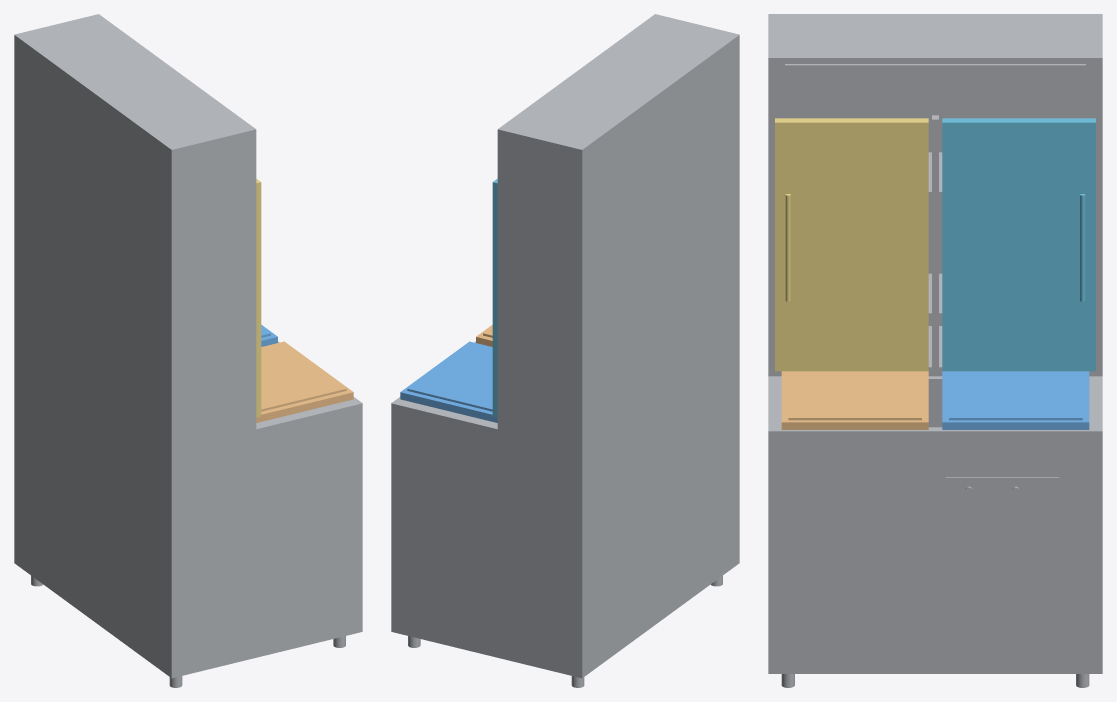
File: parts.glb
3 views of the same model, side by side, from view 1: azimuth 30°, elevation 25°; view 2: azimuth 150°, elevation 25°; view 3: azimuth 270°, elevation 25° (orthographic). The views are drawn at different scales.
Parts seen in each view (by area): view 1: visual_0_0, visual_2_0, visual_7_0; view 2: visual_0_0, visual_1_0, visual_6_0; view 3: visual_0_0, visual_6_0, visual_7_0, visual_1_0, visual_2_0.
Boxes of the visible parts, <box> form: visual_0_0: <box>14,14,362,687</box>; visual_2_0: <box>256,341,353,422</box>; visual_7_0: <box>256,178,261,417</box>; visual_0_0: <box>391,14,739,687</box>; visual_1_0: <box>400,341,497,422</box>; visual_6_0: <box>492,178,497,417</box>; visual_0_0: <box>768,14,1102,687</box>; visual_6_0: <box>942,118,1095,371</box>; visual_7_0: <box>775,118,928,371</box>; visual_1_0: <box>942,371,1089,429</box>; visual_2_0: <box>781,371,928,429</box>.
Bounding box in the file's own units: 0.711 × 1.91 × 1.
